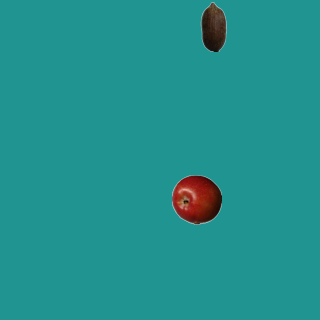Apple Braeburn: (171, 174, 221, 224)
Nut Pecan: (188, 1, 238, 51)
